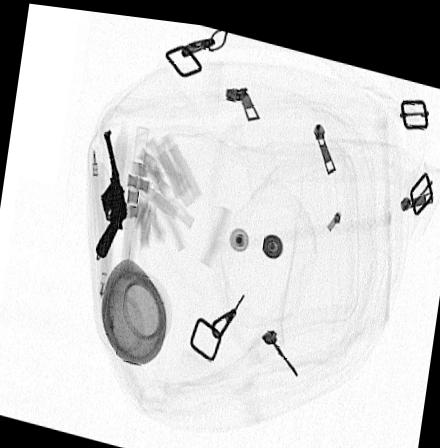Gun: (94, 124, 128, 255)
